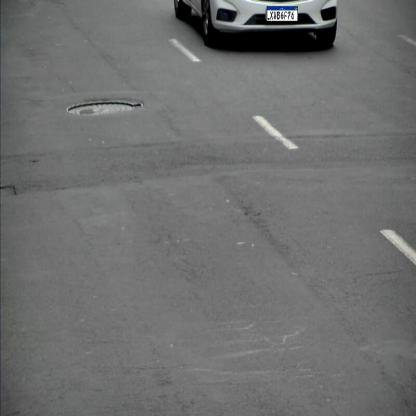PlacaM: (267, 6, 298, 22)
